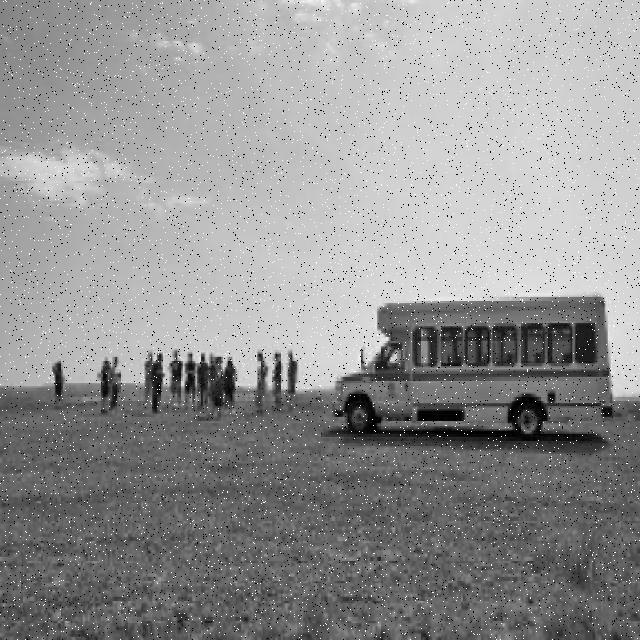Bus- Small: (329, 294, 618, 441)
